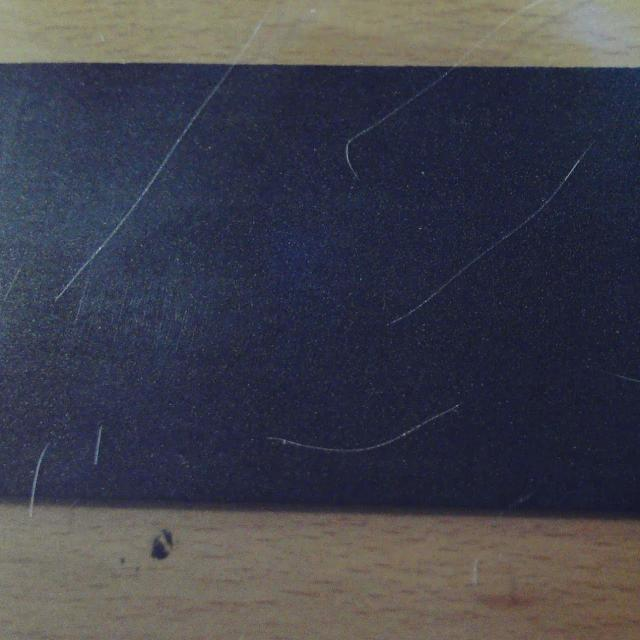defect: (53, 64, 235, 302), (392, 141, 597, 322), (345, 69, 453, 183), (268, 404, 460, 454), (27, 442, 51, 498), (93, 427, 104, 468), (620, 373, 640, 387)
